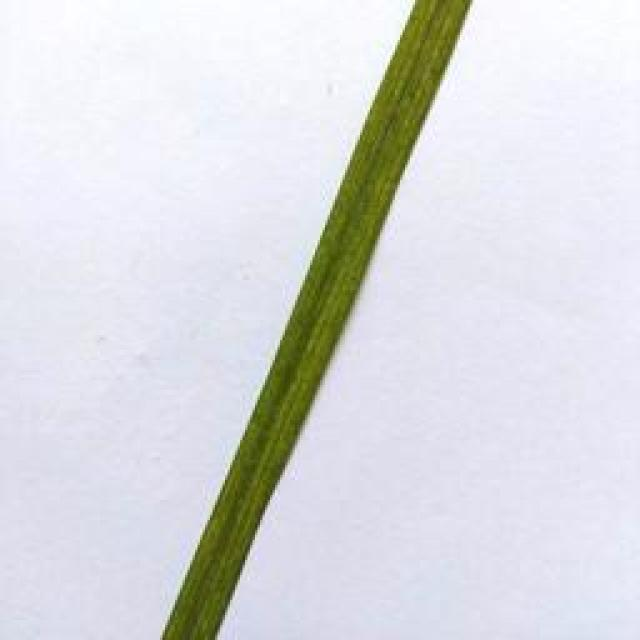Healthy-Plant: (165, 0, 471, 640)
